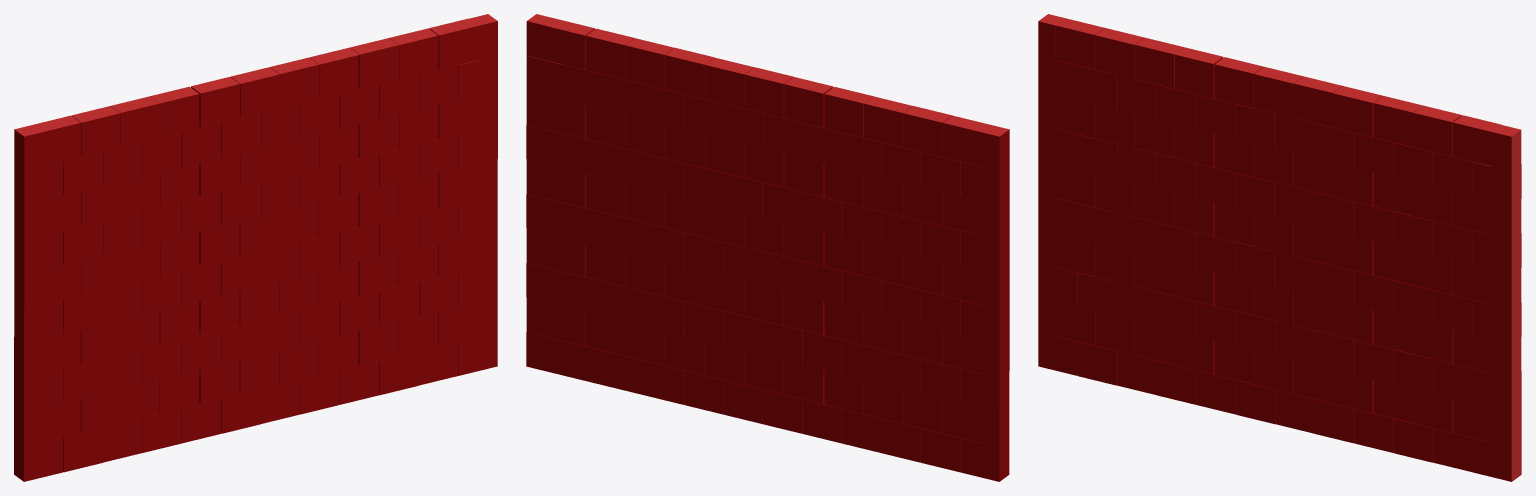
3 views of the same model, side by side, from view 1: azimuth 30°, elevation 25°; view 2: azimuth 150°, elevation 25°; view 3: azimuth 330°, elevation 25° (orthographic).
Visible parts, largest first — view 1: SketchUp (×19); view 2: SketchUp (×19); view 3: SketchUp (×19).
Part boxes in pixels (left/top/right/bottom): SketchUp (×19): left=14, top=14, right=497, bottom=481; SketchUp (×19): left=526, top=14, right=1009, bottom=481; SketchUp (×19): left=1038, top=14, right=1521, bottom=481.
Size of the model in its own units: 325 by 12.2 by 227.
